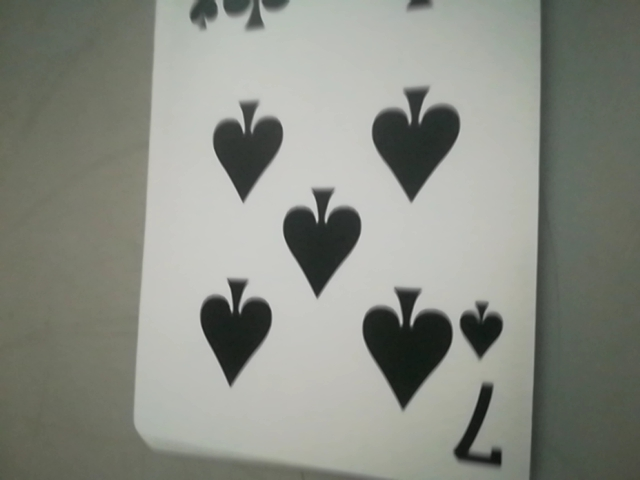ht 7: (451, 300, 514, 476)
